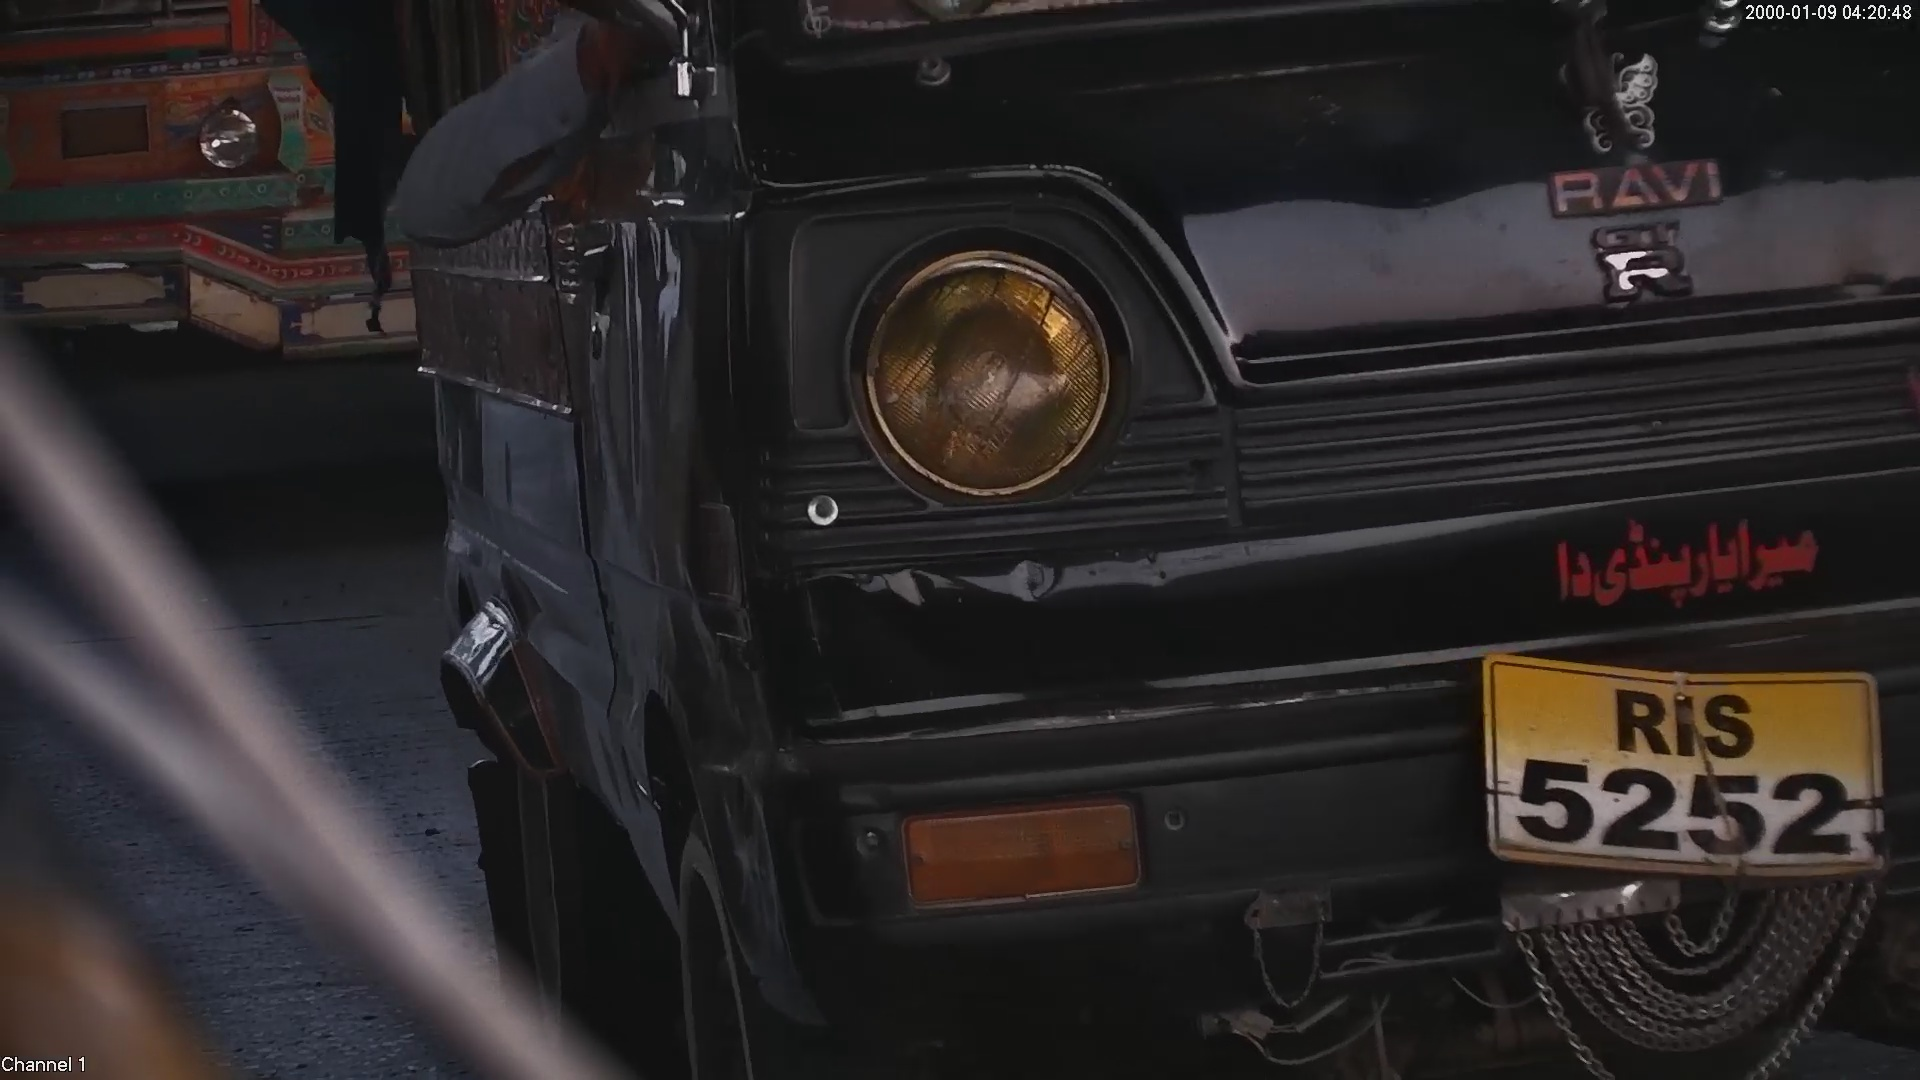Number_Plate: (1447, 653, 1915, 877)
Undefined: (1506, 894, 1884, 1070), (1554, 86, 1734, 305), (1537, 514, 1845, 601)
